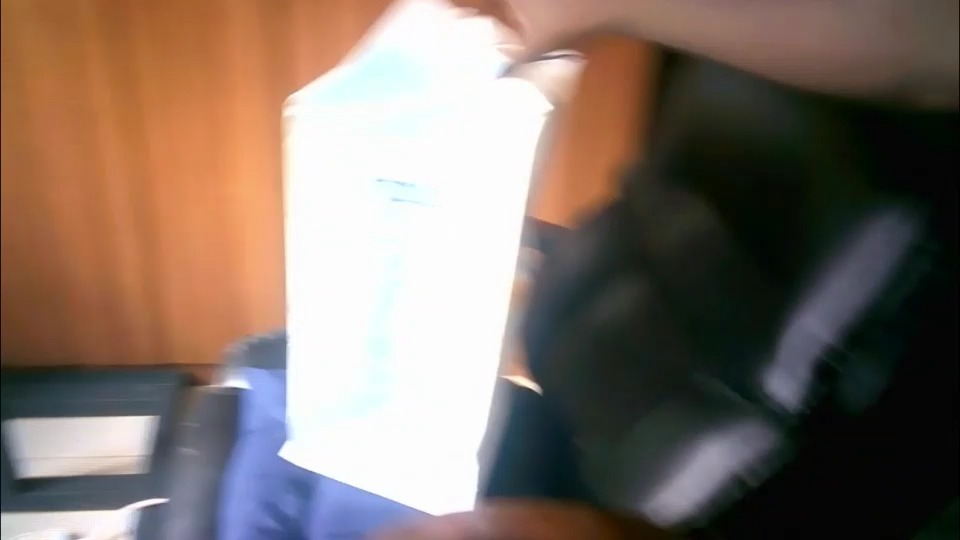wheat_flour_blue_label: (282, 2, 544, 513)
